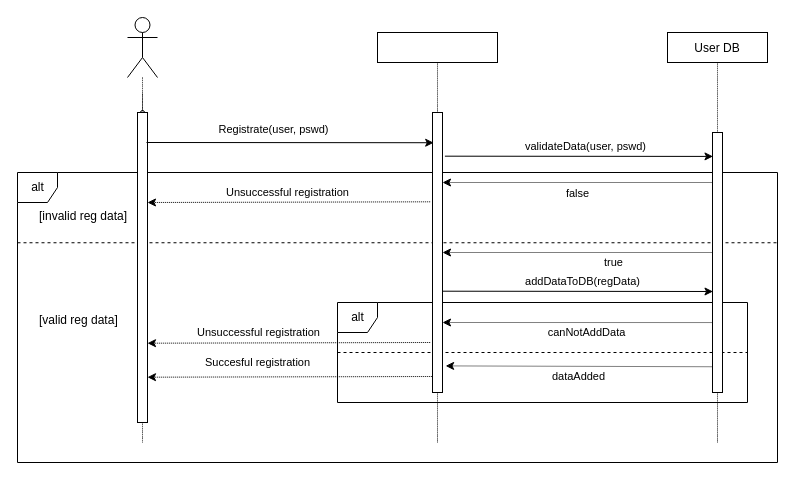
Image size: 795x480. Some labels were removed from this diagram. Here are the shapes that lost their labels. From the top down, the box of each, then its label:
(126, 16, 158, 78): User
(376, 32, 498, 62): User Data Manager
